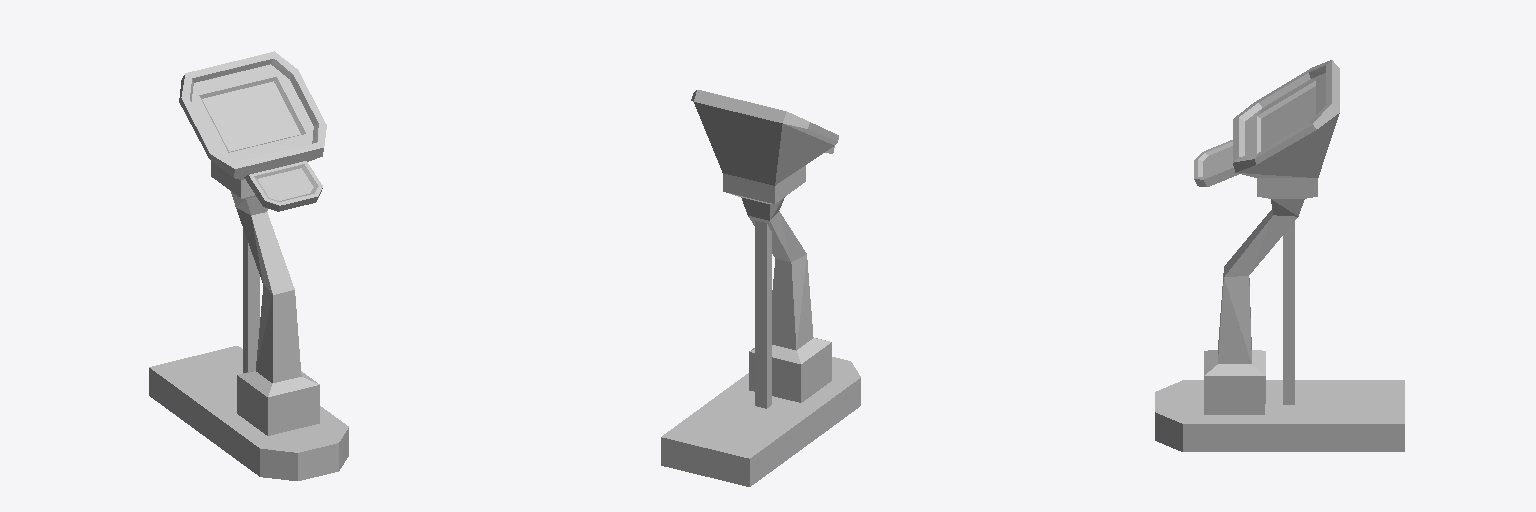
Rendered from SciFi_Panel01.obj.
The picture shows the model from 3 angles: view 1: azimuth 30°, elevation 25°; view 2: azimuth 150°, elevation 25°; view 3: azimuth 270°, elevation 25°; orthographic projection.
Parts seen in each view (by area): view 1: SM_Prop_ControlPanel_01; view 2: SM_Prop_ControlPanel_01; view 3: SM_Prop_ControlPanel_01.
Boxes of the visible parts, box(x1,y1,x2,y2) form: SM_Prop_ControlPanel_01: box(149, 51, 348, 480); SM_Prop_ControlPanel_01: box(661, 90, 860, 486); SM_Prop_ControlPanel_01: box(1155, 60, 1404, 451).
Size of the model in its own units: 0.35 by 1 by 0.65.